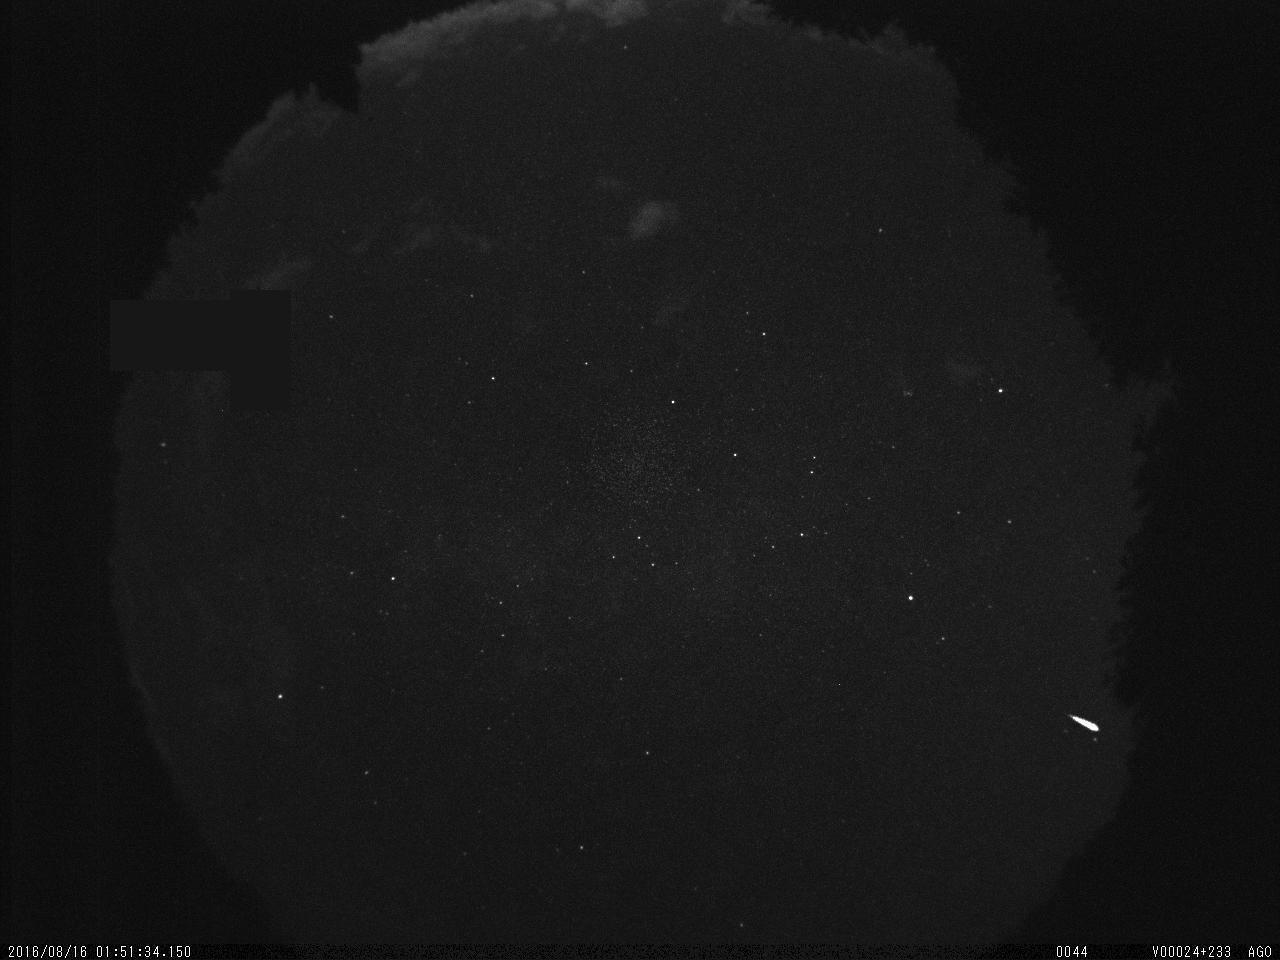Meteor: (1067, 709, 1106, 735)
